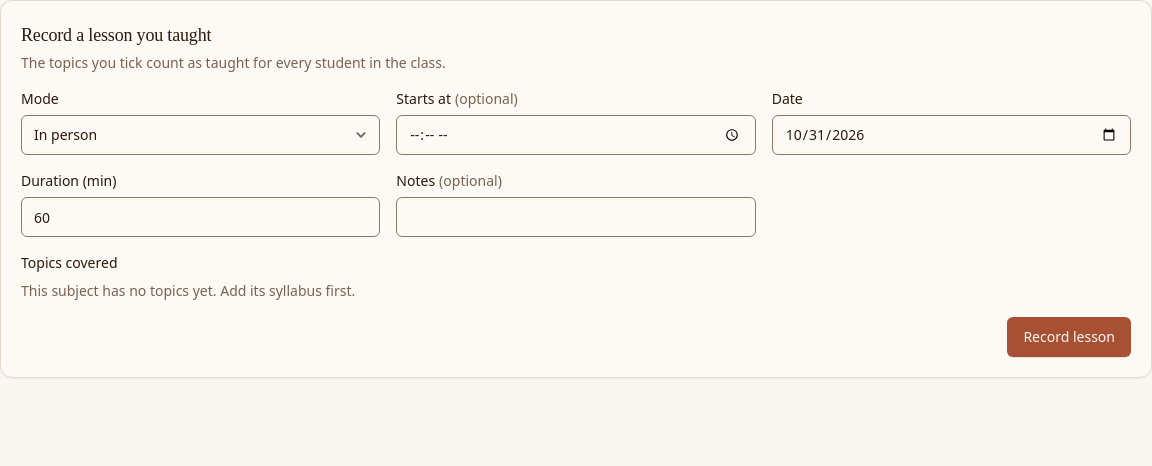
Test: the server's own message shows when the link is not a Zoom or Meet one
Expected: the button "Record lesson" is enabled, [1007,317,1131,357]
Select "Online" in the dropdown labelled "Mode" at (201, 135), box [21,115,380,155]
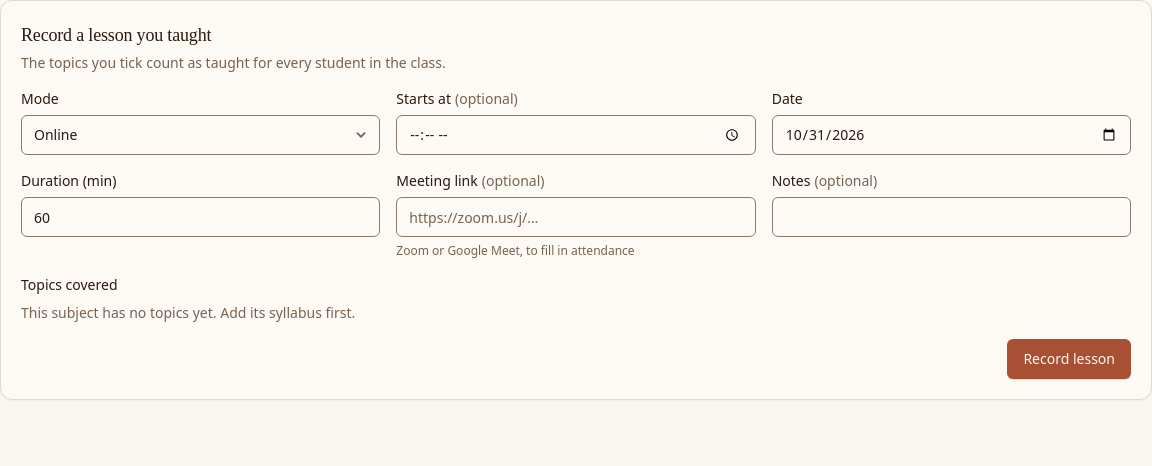
Type "nonsense" into the field labelled "Meeting link(optional)" at (576, 217), box [396,197,756,237]
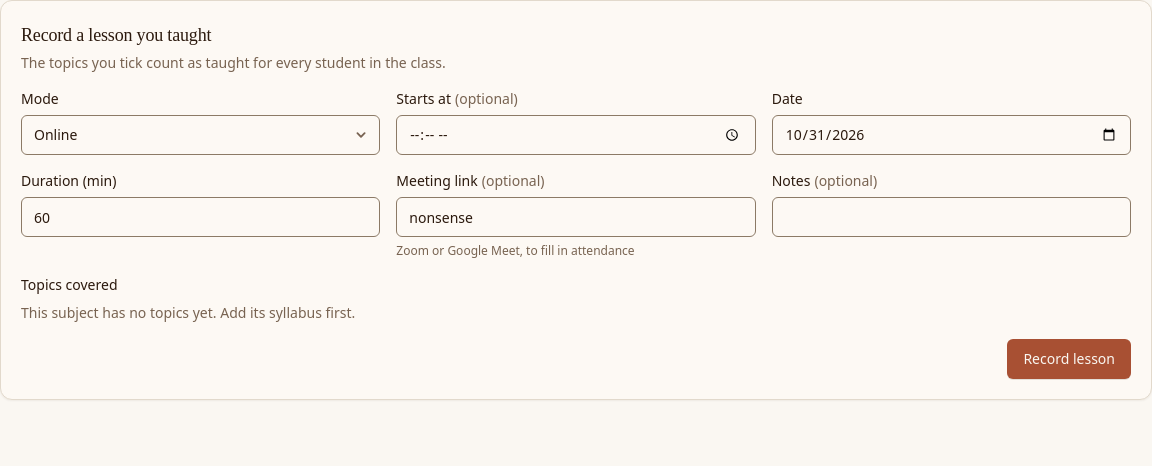
Click the button "Record lesson" at (1069, 359), box [1007,339,1131,379]
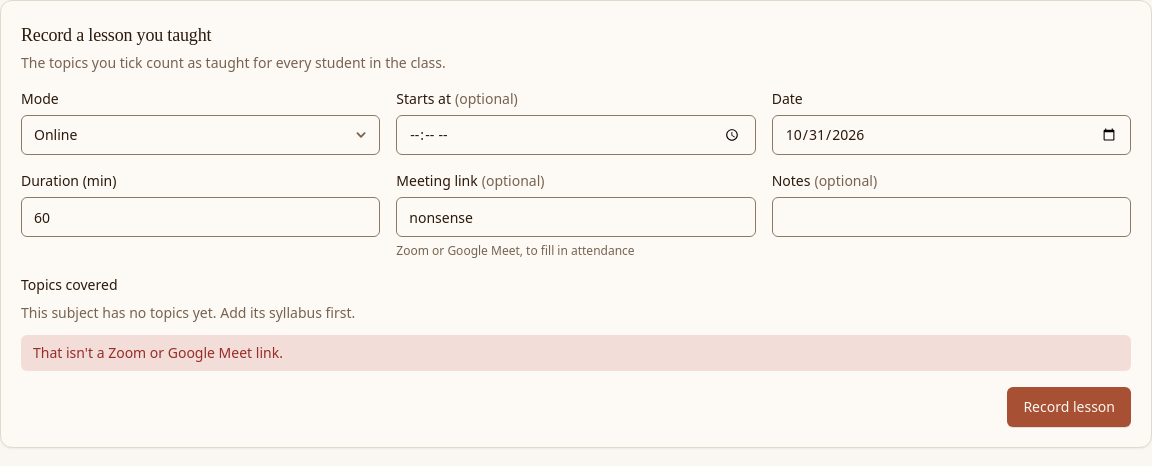
Expected: the text "That isn't a Zoom or Google Meet link." is shown, [21,335,1131,371]
